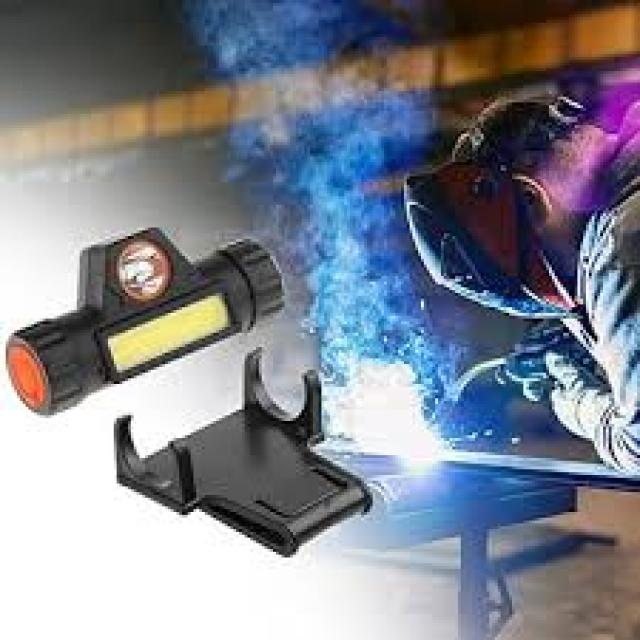welding: (388, 423, 448, 474)
